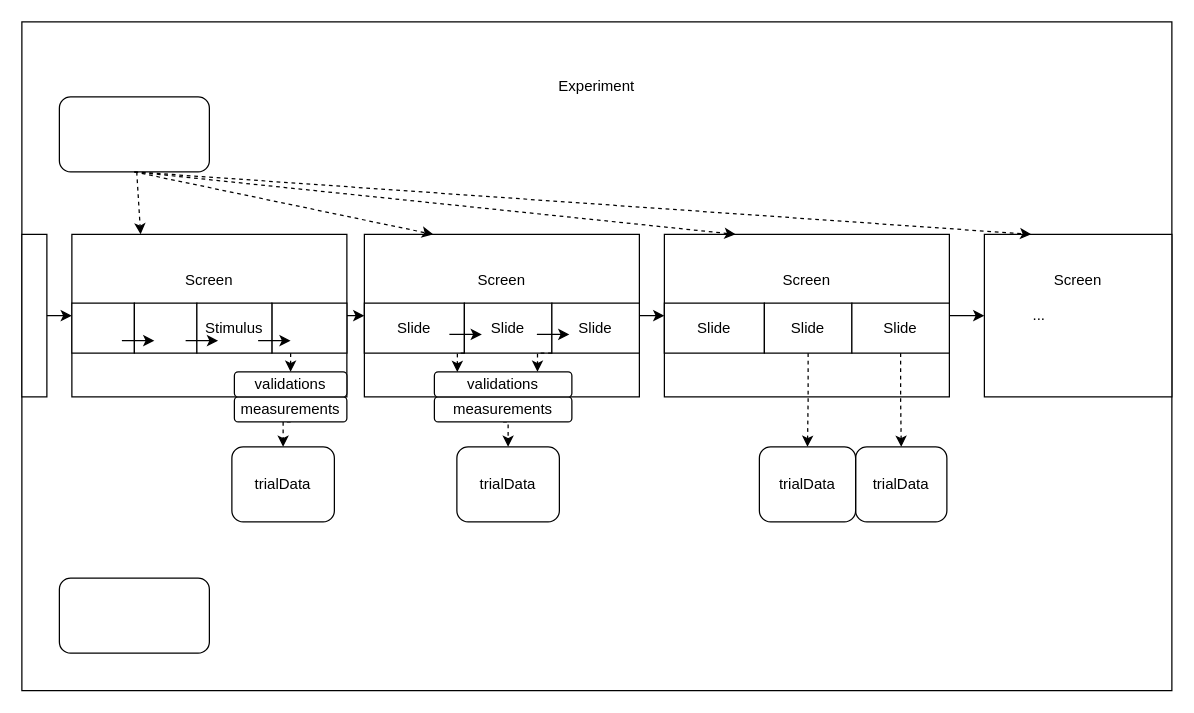
This 1194x713 diagram has some shape labels left out. Here are the shapes that lost their labels. From the top down, the centre of each, then its label:
At point 133,134: "data".
At point 102,327: "Pause".
At point 165,327: "Fixation".
At point 309,327: "Response".
At point 133,615: "expData".
